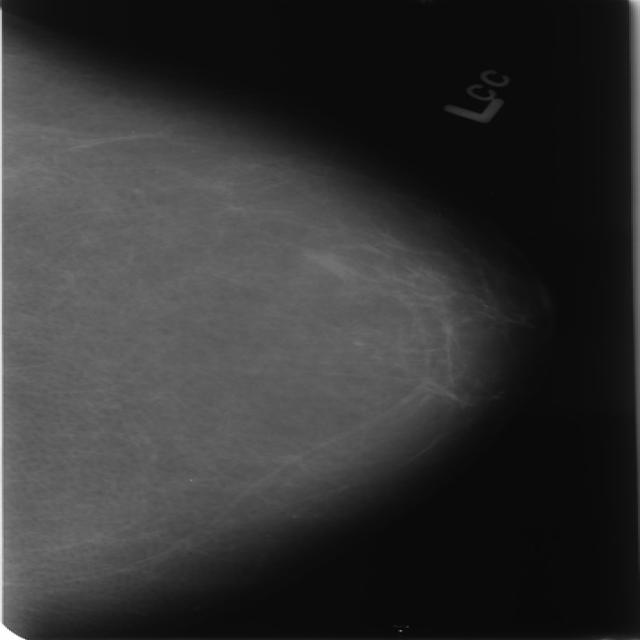tumour: (296, 246, 353, 276)
